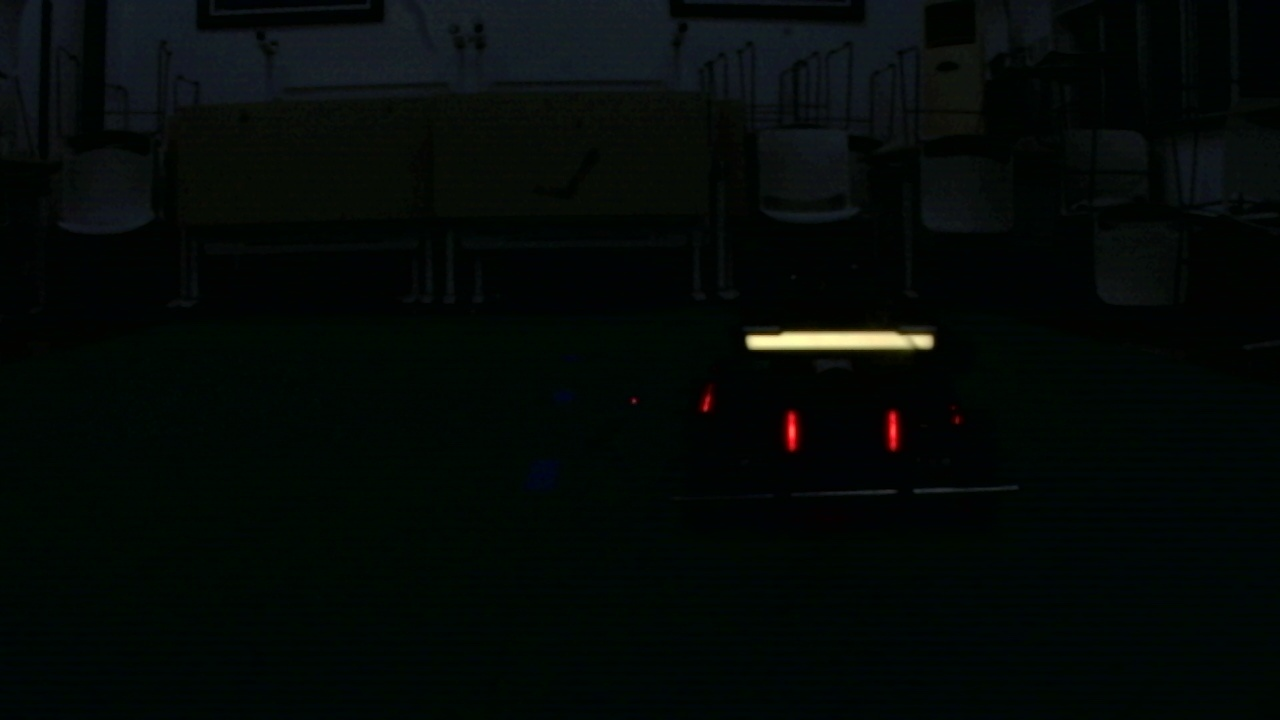lamp: (884, 406, 906, 453), (785, 408, 798, 457)
pair1: (783, 408, 902, 451)
